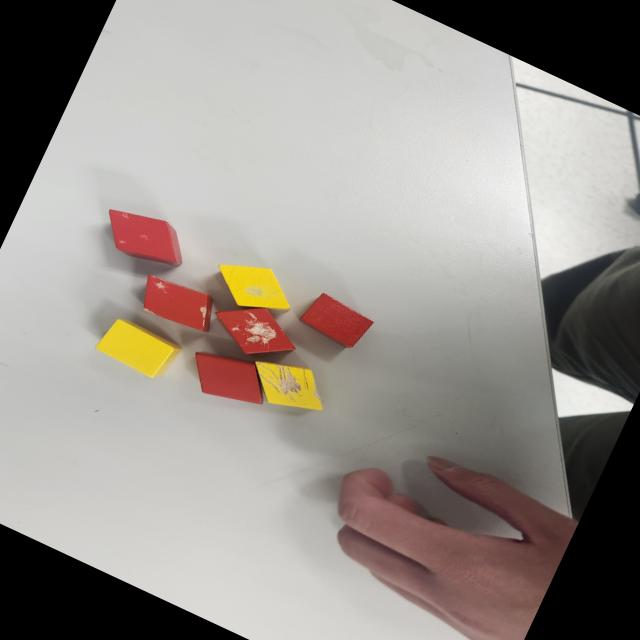broken: (202, 290, 306, 374), (94, 198, 195, 278), (206, 248, 304, 327), (242, 348, 336, 426), (132, 268, 223, 340)
red: (179, 338, 277, 419), (296, 288, 376, 355)
yellow: (92, 312, 184, 386)
